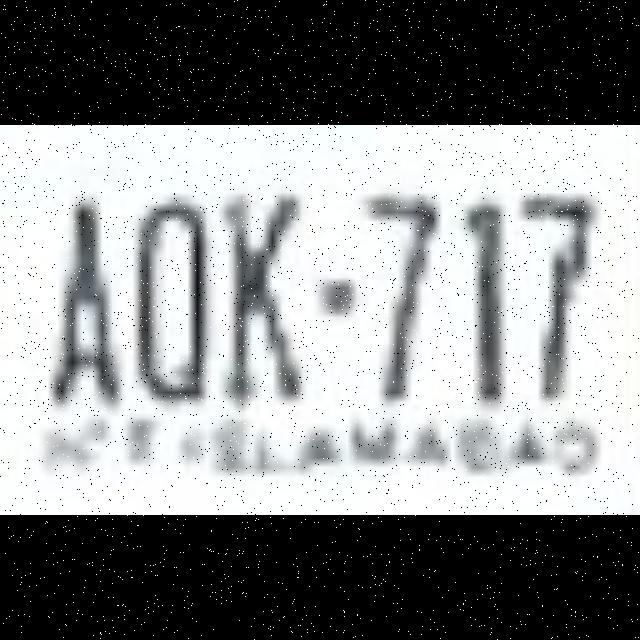1: (440, 180, 520, 416)
7: (362, 180, 442, 416), (520, 180, 600, 416)
A: (45, 180, 125, 416)
K: (225, 184, 305, 418)
Q: (133, 182, 213, 416)
